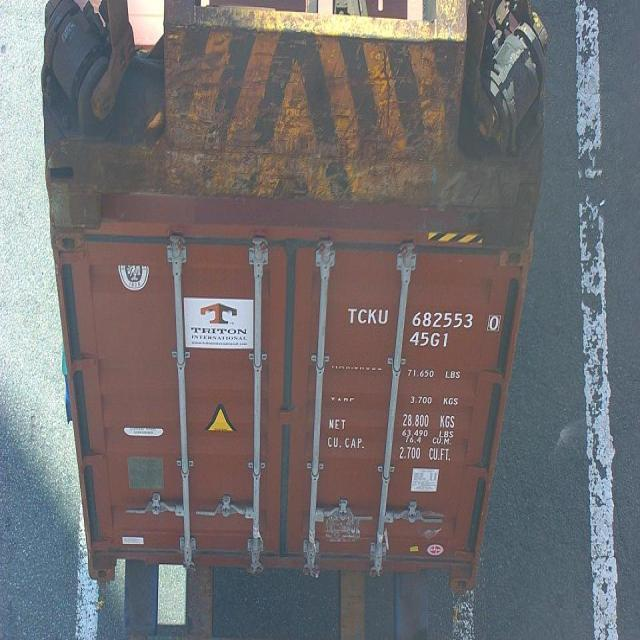ISO: (412, 331, 449, 348)
container_number: (345, 302, 503, 333)
